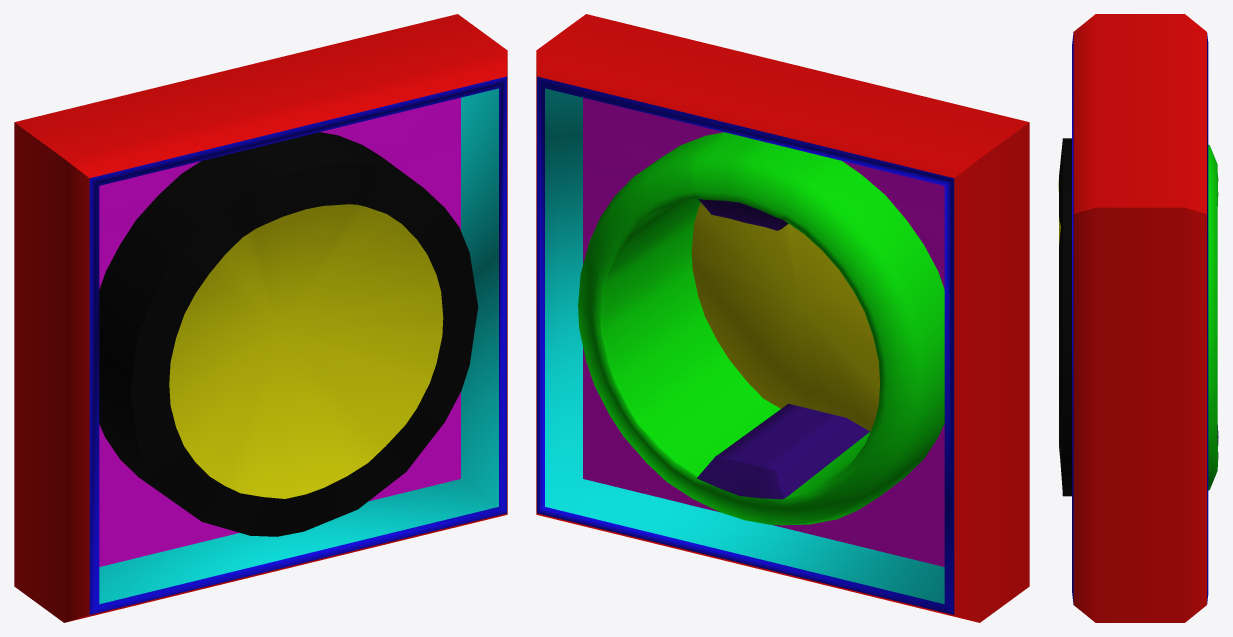
Rendered from Windooooooooow.fbx.
The picture shows the model from 3 angles, left to right: view 1: azimuth 30°, elevation 25°; view 2: azimuth 150°, elevation 25°; view 3: azimuth 270°, elevation 25°; orthographic projection. The views are drawn at different scales.
Visible parts, largest first — view 1: pPlane4; view 2: pPlane4; view 3: pPlane4.
Boxes of the visible parts, left/top/right/bottom form: pPlane4: left=14, top=14, right=507, bottom=622; pPlane4: left=536, top=14, right=1029, bottom=622; pPlane4: left=1058, top=14, right=1218, bottom=622.
Size of the model in its own units: 10 by 10 by 3.49.
